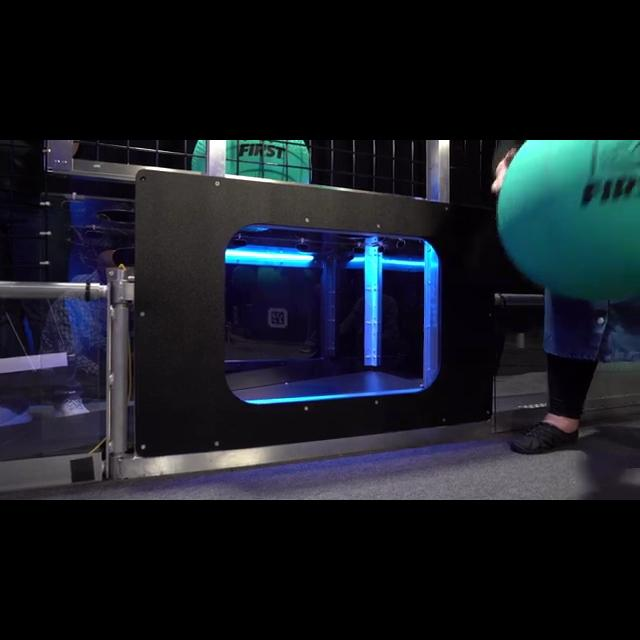ALGAE: (495, 140, 639, 302), (192, 140, 310, 186)
